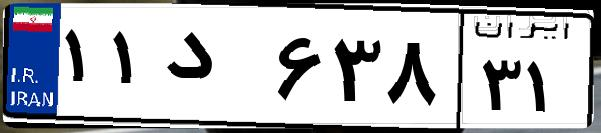1: (57, 26, 110, 100), (525, 38, 570, 115), (110, 28, 158, 98)
3: (330, 28, 385, 110), (475, 38, 525, 113)
6: (270, 28, 330, 110)
8: (385, 28, 445, 110)
د: (158, 20, 270, 120)
